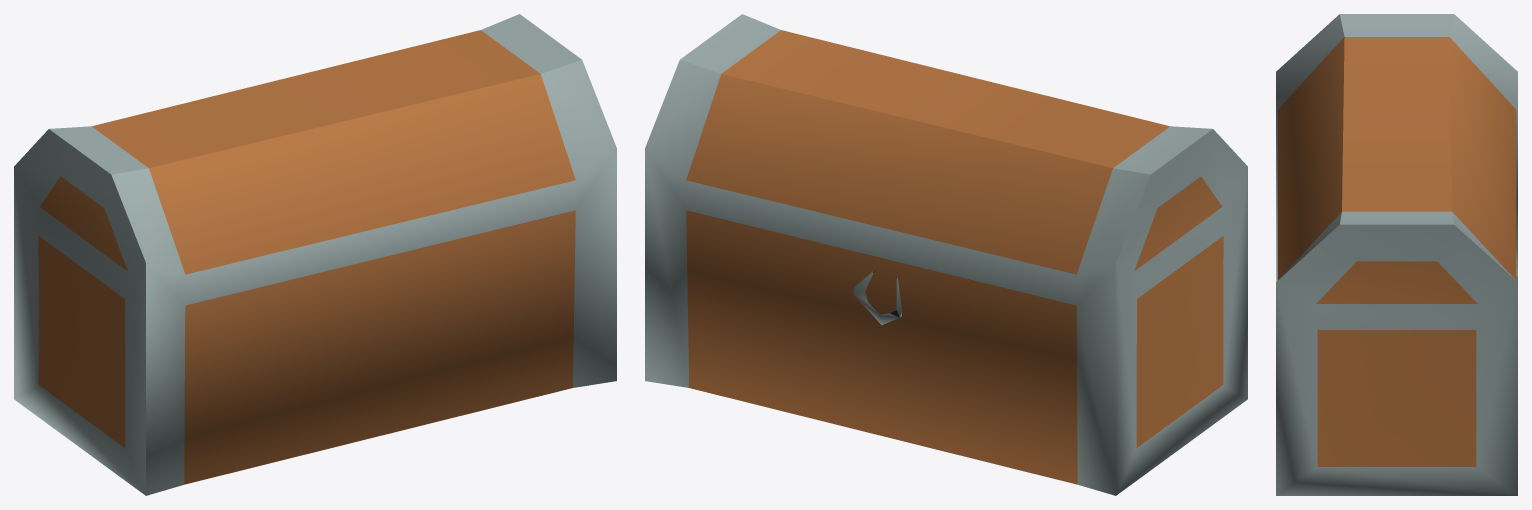
The model's file is SilhoChest.obj.
3 renders of one model, left to right at view 1: azimuth 30°, elevation 25°; view 2: azimuth 150°, elevation 25°; view 3: azimuth 270°, elevation 25°, orthographic. The views are drawn at different scales.
Parts seen in each view (by area): view 1: Chest1; view 2: Chest1; view 3: Chest1.
Boxes of the visible parts, x1,y1,x2,y2 form: Chest1: (14, 14, 616, 495); Chest1: (645, 14, 1247, 495); Chest1: (1276, 14, 1517, 495).
Size of the model in its own units: 3.26 by 1.96 by 1.58.
